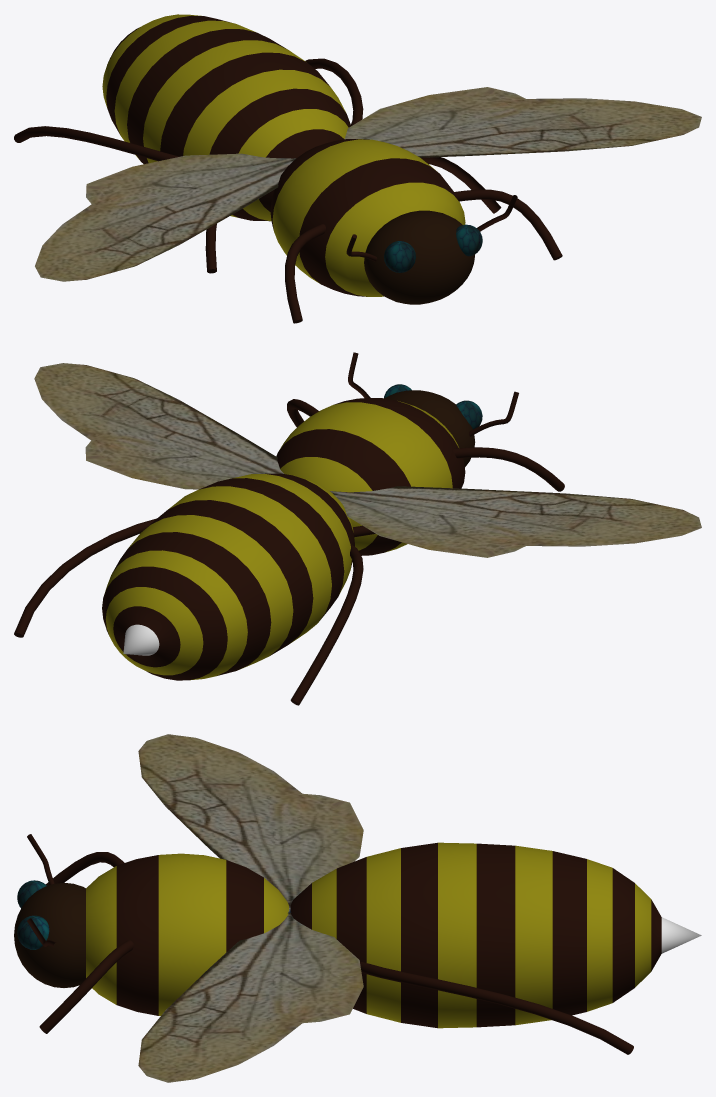
The model's file is bee.glb.
3 renders of one model, top to bottom at view 1: azimuth 30°, elevation 25°; view 2: azimuth 150°, elevation 25°; view 3: azimuth 270°, elevation 25°, orthographic. The views are drawn at different scales.
Parts seen in each view (by area): view 1: Body, Wing 1, Neck, Wing 1.001, Head, BezierCurve.001, BezierCurve.006, BezierCurve.002, BezierCurve.004, BezierCurve.005, Eye.002, Eye (+1 smaller); view 2: Body, Wing 1, Wing 1.001, Neck, Head, BezierCurve.004, BezierCurve.001, BezierCurve.002; view 3: Body, Neck, Wing 1.001, Wing 1, Head, BezierCurve.004, BezierCurve.006, BezierCurve.002, Eye.
Boxes of the visible parts, bbox=[...] form: Body: bbox=[102, 14, 350, 221]; Wing 1: bbox=[35, 153, 295, 281]; Neck: bbox=[270, 139, 465, 296]; Wing 1.001: bbox=[344, 87, 701, 157]; Head: bbox=[364, 210, 475, 304]; BezierCurve.001: bbox=[14, 126, 179, 161]; BezierCurve.006: bbox=[453, 189, 562, 260]; BezierCurve.002: bbox=[285, 224, 325, 323]; BezierCurve.004: bbox=[305, 58, 363, 125]; BezierCurve.005: bbox=[421, 157, 501, 213]; Eye.002: bbox=[384, 241, 415, 272]; Eye: bbox=[456, 224, 482, 256]; Body: bbox=[102, 473, 354, 680]; Wing 1: bbox=[330, 486, 701, 557]; Wing 1.001: bbox=[34, 363, 283, 489]; Neck: bbox=[276, 398, 465, 555]; Head: bbox=[384, 390, 475, 467]; BezierCurve.004: bbox=[14, 518, 156, 637]; BezierCurve.001: bbox=[290, 545, 363, 705]; BezierCurve.002: bbox=[453, 447, 564, 491]; Body: bbox=[290, 842, 701, 1028]; Neck: bbox=[86, 853, 289, 1015]; Wing 1.001: bbox=[138, 913, 363, 1082]; Wing 1: bbox=[138, 734, 363, 913]; Head: bbox=[14, 882, 85, 987]; BezierCurve.004: bbox=[360, 962, 633, 1054]; BezierCurve.006: bbox=[39, 940, 133, 1033]; BezierCurve.002: bbox=[46, 852, 124, 885]; Eye: bbox=[17, 915, 49, 949].
Size of the model in its own units: 7.53 by 1.64 by 6.29.
8 materials, 4 textured.
